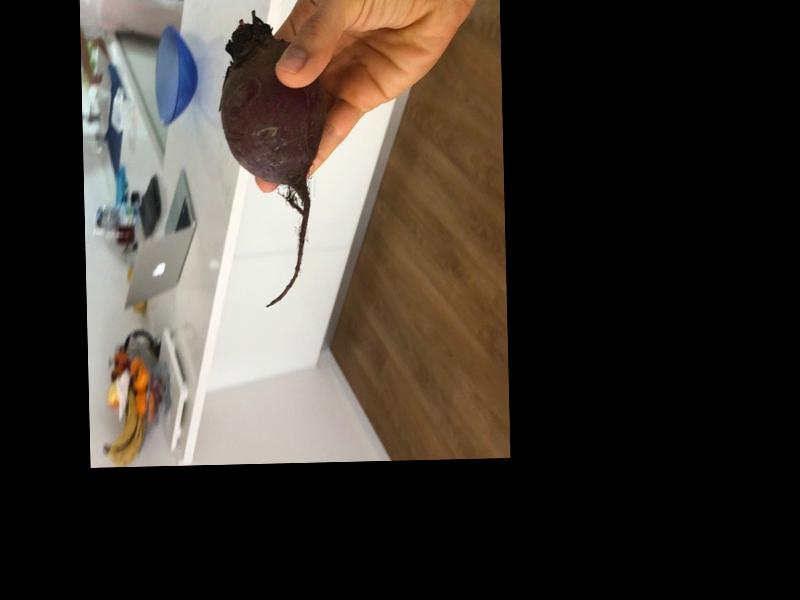Beet: (218, 12, 328, 308)
